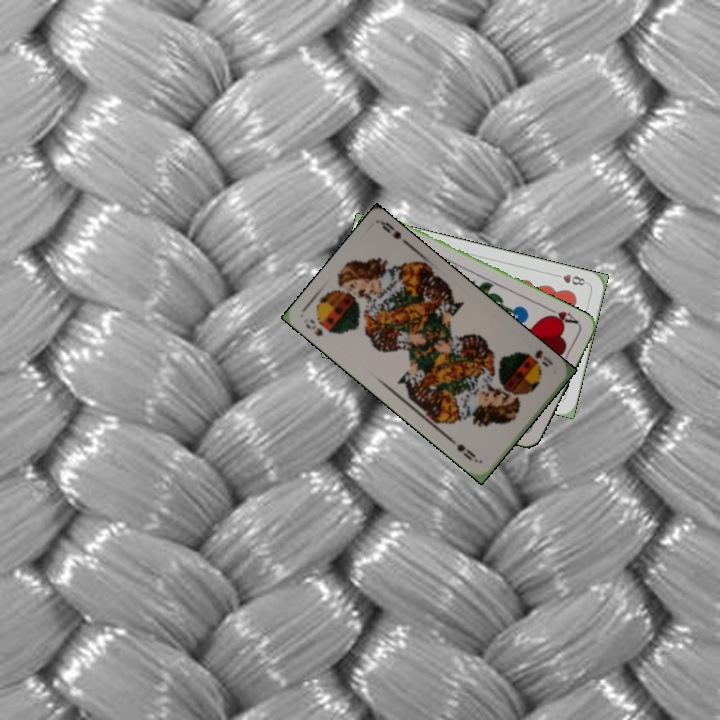H8: (550, 270, 590, 288)
HA: (543, 303, 581, 327)
SO: (531, 346, 556, 370), (301, 315, 325, 339)
